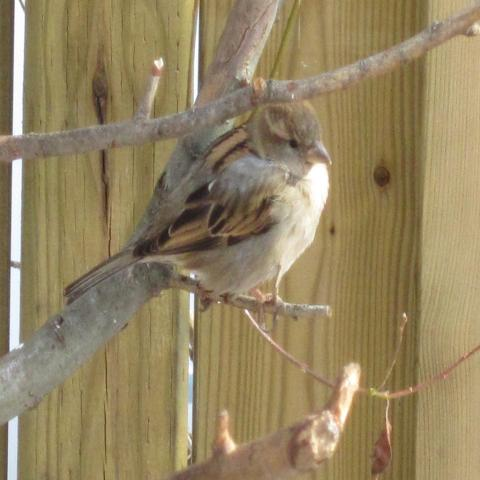bird: (62, 95, 334, 330)
